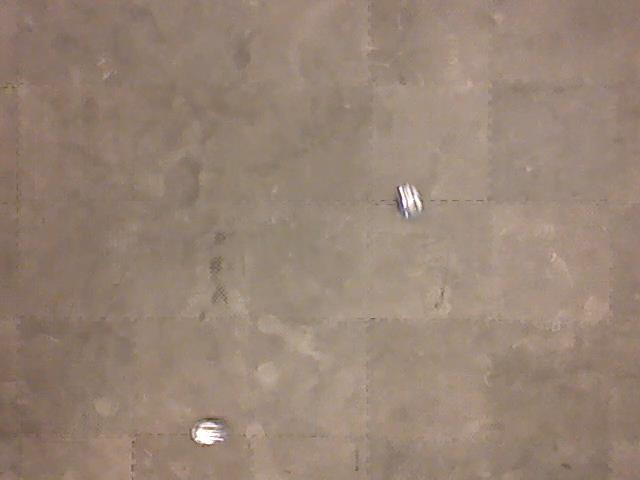Agent: (186, 414, 230, 448), (393, 181, 425, 222)
